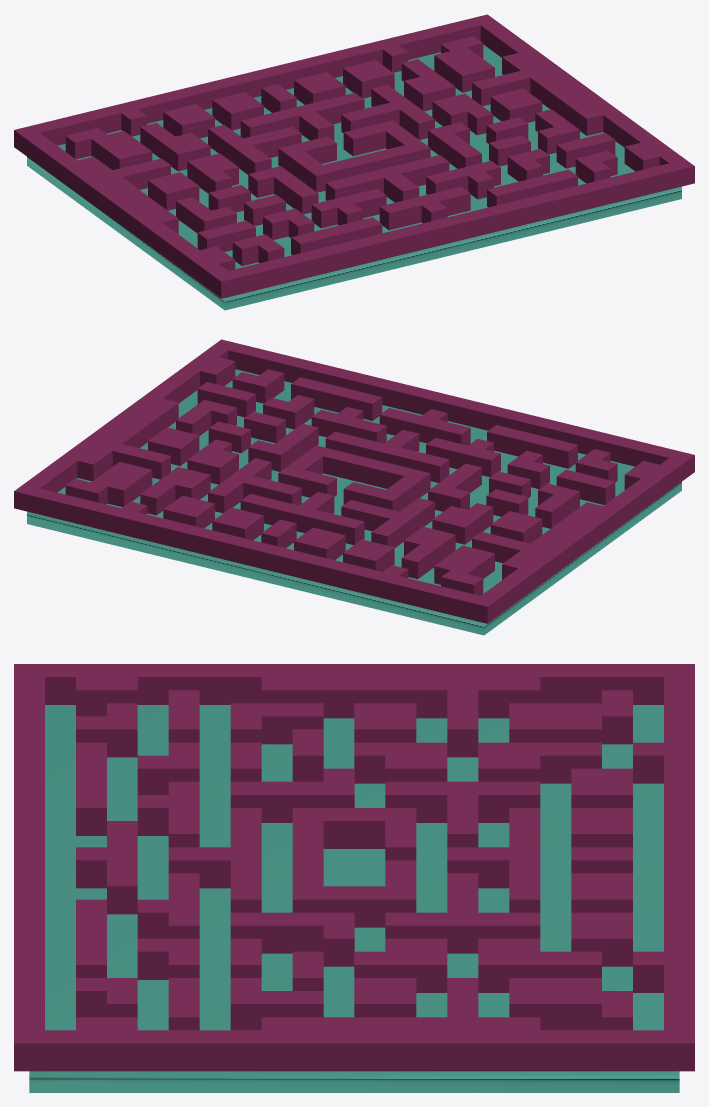
Rendered from mazef.fbx.
The picture shows the model from 3 angles, top to bottom: view 1: azimuth 30°, elevation 25°; view 2: azimuth 150°, elevation 25°; view 3: azimuth 270°, elevation 25°; orthographic projection. The views are drawn at different scales.
Parts seen in each view (by area): view 1: Cube.003, Cube, Cube.001, Cube.002, Cube.017, Cube.019, Cube.004, Cube.037, Cube.018, Cube.038, Cube.020, Cube.025 (+27 smaller); view 2: Cube.003, Cube, Cube.001, Cube.002, Cube.017, Cube.019, Cube.004, Cube.038, Cube.037, Cube.026, Cube.018, Cube.012 (+27 smaller); view 3: Cube.003, Cube, Cube.001, Cube.019, Cube.004, Cube.038, Cube.002, Cube.017, Cube.037, Cube.011, Cube.005, Cube.020 (+27 smaller).
Boxes of the visible parts, <box> form: Cube.003: <box>14,14,694,298</box>; Cube: <box>27,44,681,310</box>; Cube.001: <box>278,120,430,192</box>; Cube.002: <box>240,93,364,140</box>; Cube.017: <box>325,155,449,202</box>; Cube.019: <box>208,124,301,174</box>; Cube.004: <box>341,85,434,139</box>; Cube.037: <box>65,128,152,170</box>; Cube.018: <box>379,186,470,230</box>; Cube.038: <box>434,36,494,92</box>; Cube.020: <box>140,123,210,171</box>; Cube.025: <box>248,166,318,214</box>; Cube.003: <box>14,339,694,623</box>; Cube: <box>27,369,681,635</box>; Cube.001: <box>278,445,430,511</box>; Cube.002: <box>240,492,364,545</box>; Cube.017: <box>325,430,449,482</box>; Cube.019: <box>341,498,434,547</box>; Cube.004: <box>208,458,301,513</box>; Cube.038: <box>65,462,152,507</box>; Cube.037: <box>434,545,494,595</box>; Cube.026: <box>487,425,577,468</box>; Cube.018: <box>379,408,470,445</box>; Cube.012: <box>291,377,382,420</box>; Cube.003: <box>14,664,694,1071</box>; Cube: <box>29,705,679,1092</box>; Cube.001: <box>292,808,416,927</box>; Cube.019: <box>385,781,540,847</box>; Cube.004: <box>385,873,540,953</box>; Cube.038: <box>509,978,632,1030</box>; Cube.002: <box>447,808,540,912</box>; Cube.017: <box>168,808,261,912</box>; Cube.037: <box>509,690,632,744</box>; Cube.011: <box>230,912,354,966</box>; Cube.005: <box>478,938,601,992</box>; Cube.020: <box>478,742,601,783</box>.
Size of the model in its own units: 5800 by 400 by 4400.
